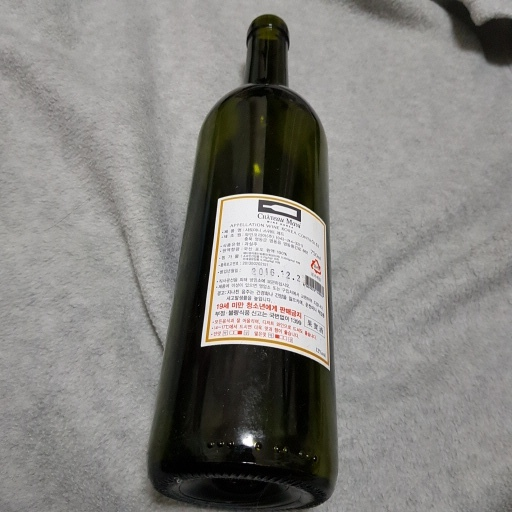Glass_2: (149, 10, 341, 512)
